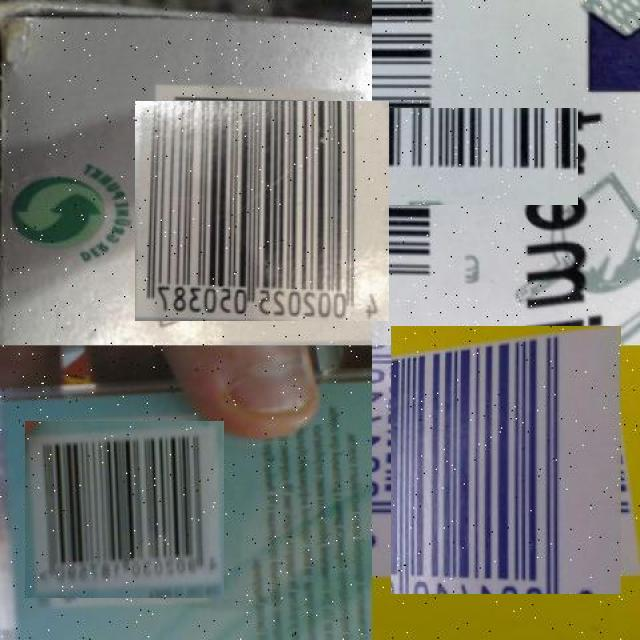Barcode: (381, 336, 631, 585), (143, 93, 381, 330), (318, 54, 524, 259), (30, 416, 219, 604)
